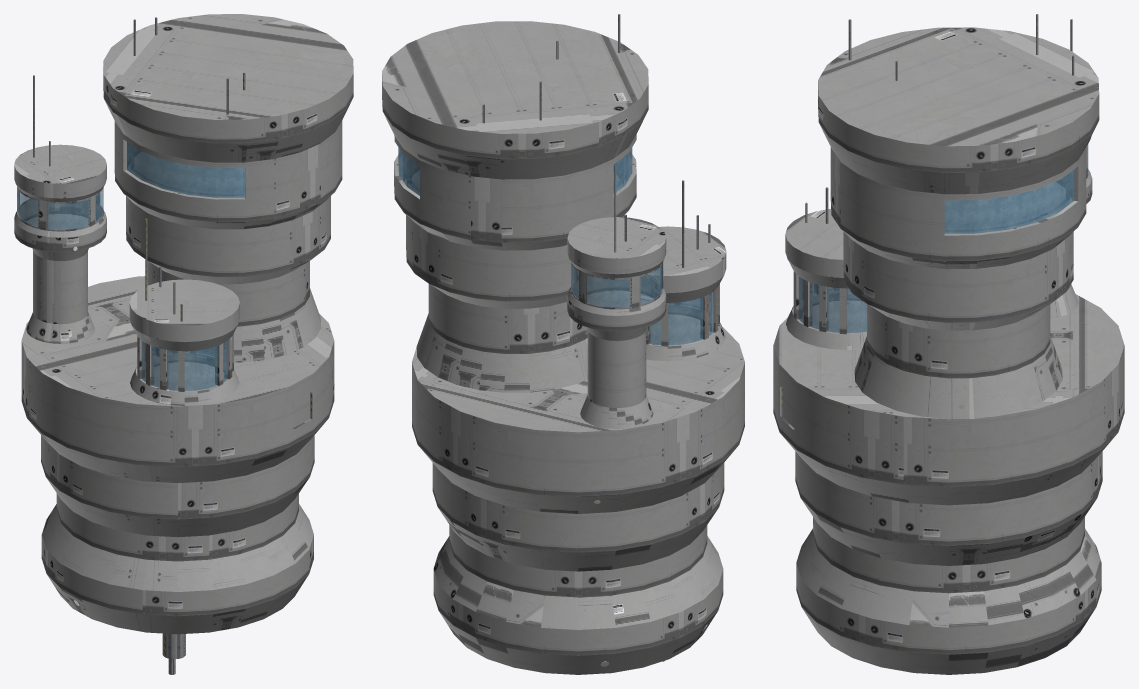
3 renders of one model, left to right at view 1: azimuth 30°, elevation 25°; view 2: azimuth 150°, elevation 25°; view 3: azimuth 270°, elevation 25°, orthographic. The views are drawn at different scales.
Visible parts, largest first — view 1: Material2.001, Material2.007, Material2.005, Material2.009, Material2.019, Material2.056, Material2.058, Material2.016, Material2.017, Material2.057, Material2.018, Material2.023 (+5 smaller); view 2: Material2.001, Material2.007, Material2.005, Material2.009, Material2.056, Material2.058, Material2.019, Material2.057, Material2.023, Material2.060, Material2.018, Material2.021 (+4 smaller); view 3: Material2.001, Material2.007, Material2.005, Material2.009, Material2.016, Material2.017, Material2.019, Material2.023, Material2.018, Material2.021, Material2.056.
Part boxes in pixels (x1,y1,x2,y2): Material2.001: [21, 276, 334, 634]; Material2.007: [103, 14, 353, 162]; Material2.005: [124, 192, 334, 362]; Material2.009: [114, 120, 342, 222]; Material2.019: [129, 279, 239, 351]; Material2.056: [26, 248, 94, 343]; Material2.058: [14, 144, 106, 202]; Material2.016: [127, 142, 244, 197]; Material2.017: [127, 142, 244, 197]; Material2.057: [14, 202, 106, 252]; Material2.018: [130, 352, 239, 405]; Material2.023: [154, 341, 227, 390]; Material2.001: [412, 327, 744, 674]; Material2.007: [382, 21, 648, 179]; Material2.005: [404, 211, 627, 392]; Material2.009: [394, 134, 636, 242]; Material2.056: [580, 327, 653, 428]; Material2.058: [567, 217, 666, 278]; Material2.019: [649, 226, 726, 302]; Material2.057: [567, 278, 666, 331]; Material2.023: [649, 297, 703, 345]; Material2.060: [572, 276, 660, 306]; Material2.018: [646, 304, 725, 361]; Material2.021: [651, 305, 709, 343]; Material2.001: [773, 294, 1124, 674]; Material2.007: [818, 27, 1099, 194]; Material2.005: [841, 227, 1077, 418]; Material2.009: [830, 147, 1086, 261]; Material2.016: [944, 169, 1074, 233]; Material2.017: [945, 170, 1073, 233]; Material2.019: [785, 209, 848, 288]; Material2.023: [798, 277, 866, 333]; Material2.018: [786, 289, 866, 349]; Material2.021: [802, 290, 866, 331]; Material2.056: [1050, 284, 1078, 318].
Size of the model in its own units: 1237 by 2329 by 1121.
8 materials, 7 textured.
